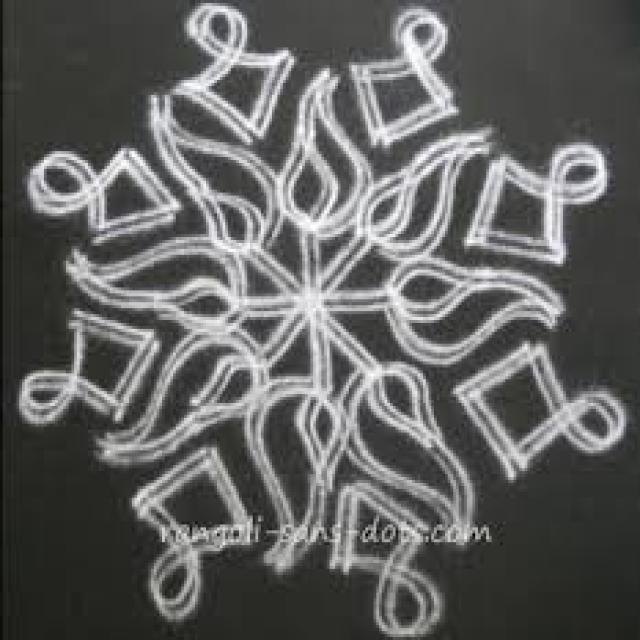rangoli: (22, 0, 626, 640)
